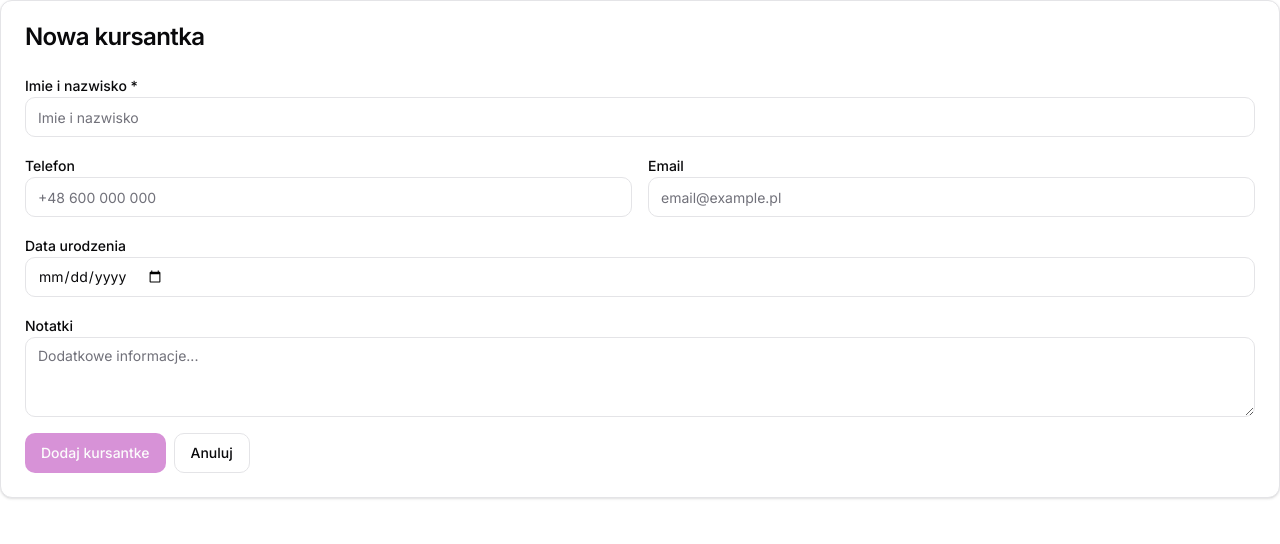
Test: StudentForm › shows validation error for invalid phone
Type "Test Name" into the field labelled "Imie i nazwisko *" at (640, 117), box [25,97,1255,137]
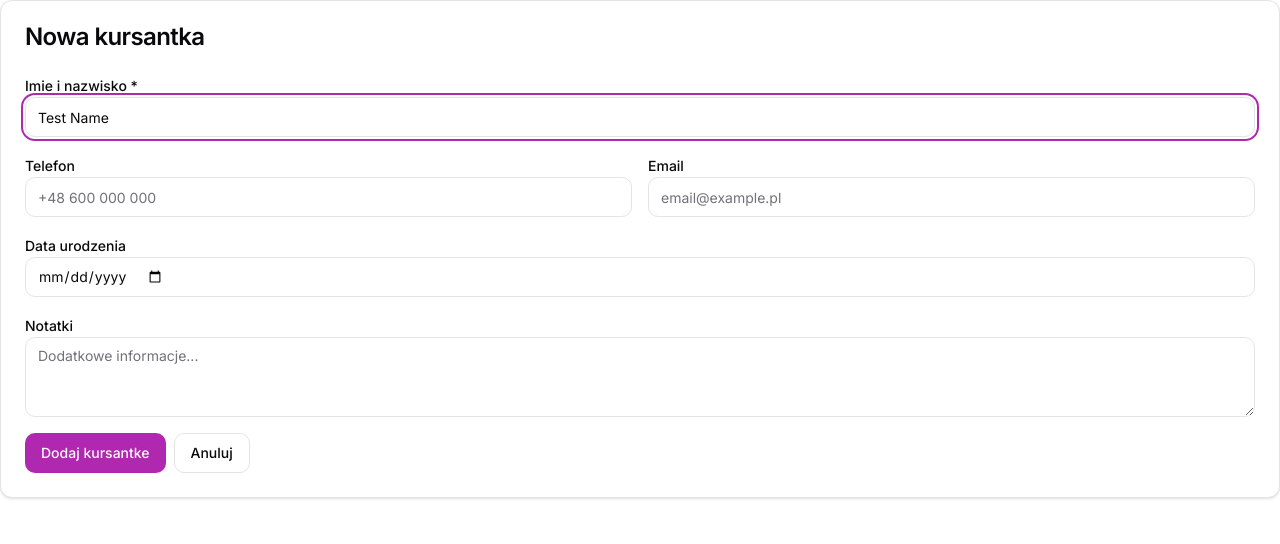
Type "123" into the field labelled "Telefon" at (328, 197), box [25,177,632,217]
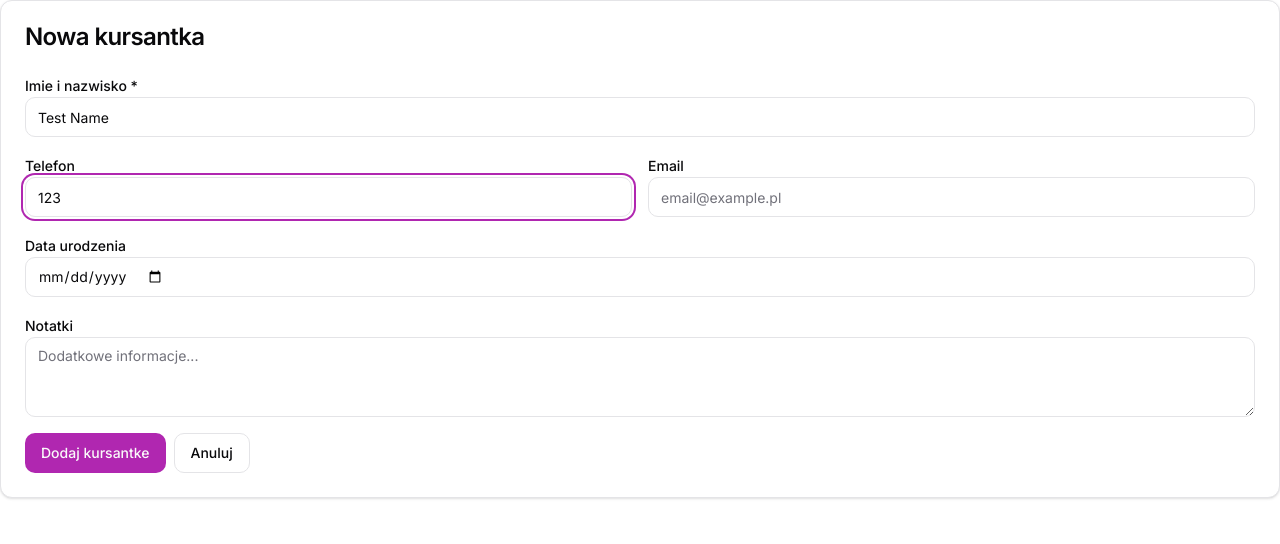
Click the button "Dodaj kursantke" at (95, 453), box [25,433,166,473]
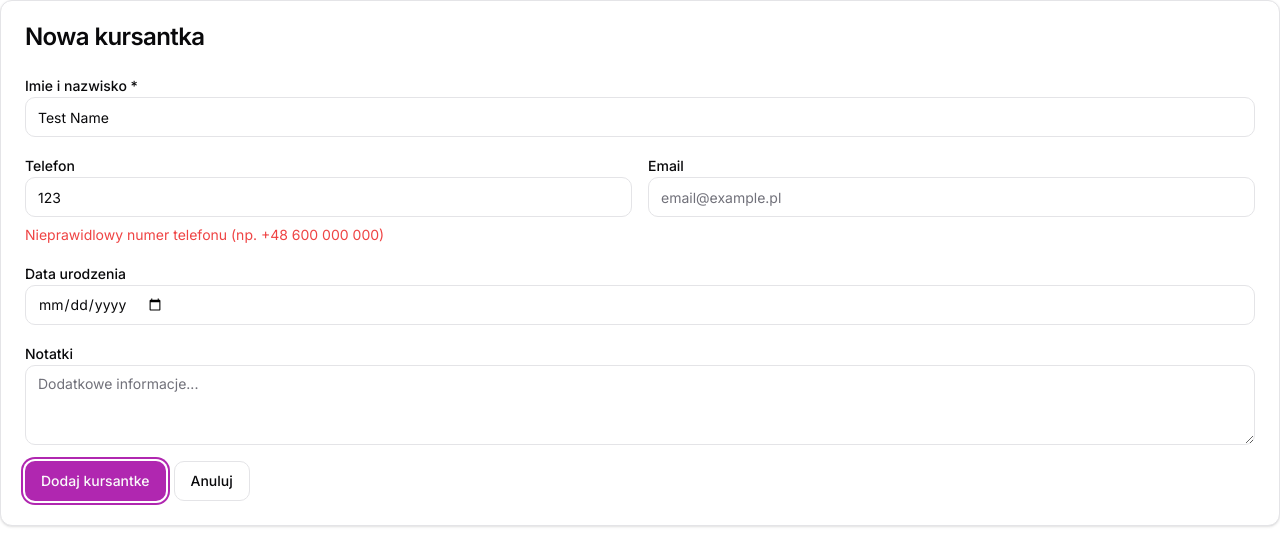
Check: the text "Nieprawidlowy numer telefonu (np. +48 600 000 000)" is shown, box [25,226,384,243]
